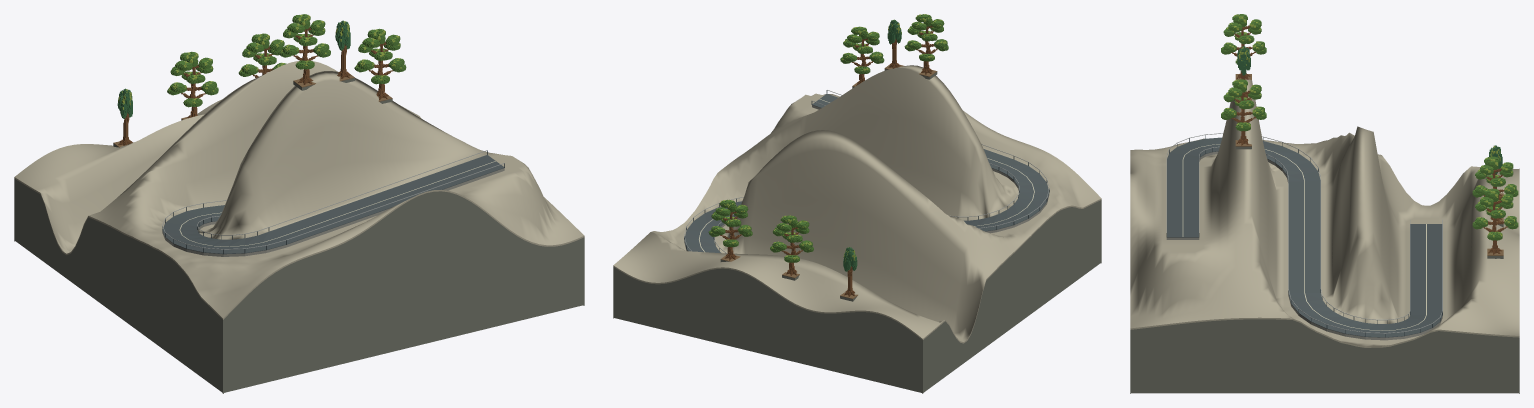
Rendered from visual-far.glb.
3 renders of one model, left to right at view 1: azimuth 30°, elevation 25°; view 2: azimuth 150°, elevation 25°; view 3: azimuth 270°, elevation 25°, orthographic. The views are drawn at different scales.
Visible parts, largest first — view 1: 连续岩土实体与最小原生岩块, 连续两次发卡弯、路床、护栏与实际承脚, 既有量化乔木树干与错层冠母版 (×4), 柏类柱冠树母版 (×2); view 2: 连续岩土实体与最小原生岩块, 既有量化乔木树干与错层冠母版 (×4), 连续两次发卡弯、路床、护栏与实际承脚, 柏类柱冠树母版 (×2); view 3: 连续岩土实体与最小原生岩块, 连续两次发卡弯、路床、护栏与实际承脚, 既有量化乔木树干与错层冠母版 (×4), 柏类柱冠树母版.
Boxes of the visible parts, x1=… form: 连续岩土实体与最小原生岩块: x1=14, y1=61, x2=584, y2=393; 连续两次发卡弯、路床、护栏与实际承脚: x1=162, y1=150, x2=504, y2=256; 既有量化乔木树干与错层冠母版 (×4): x1=167, y1=14, x2=406, y2=118; 柏类柱冠树母版 (×2): x1=117, y1=20, x2=350, y2=145; 连续岩土实体与最小原生岩块: x1=613, y1=65, x2=1101, y2=393; 既有量化乔木树干与错层冠母版 (×4): x1=708, y1=14, x2=948, y2=275; 连续两次发卡弯、路床、护栏与实际承脚: x1=684, y1=90, x2=1049, y2=253; 柏类柱冠树母版 (×2): x1=843, y1=19, x2=901, y2=296; 连续岩土实体与最小原生岩块: x1=1130, y1=79, x2=1519, y2=393; 连续两次发卡弯、路床、护栏与实际承脚: x1=1166, y1=133, x2=1442, y2=340; 既有量化乔木树干与错层冠母版 (×4): x1=1221, y1=14, x2=1518, y2=254; 柏类柱冠树母版: x1=1237, y1=46, x2=1250, y2=97.
Size of the model in its own units: 96 by 75 by 96.
13 materials, 13 textured.
